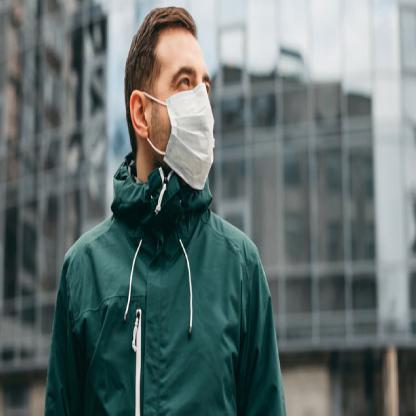Wearing_Mask: (126, 22, 223, 206)
